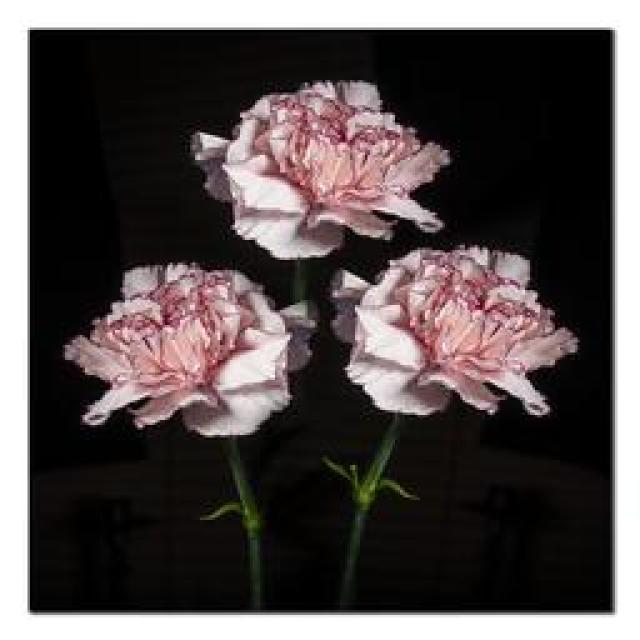carnation: (190, 77, 464, 262)
